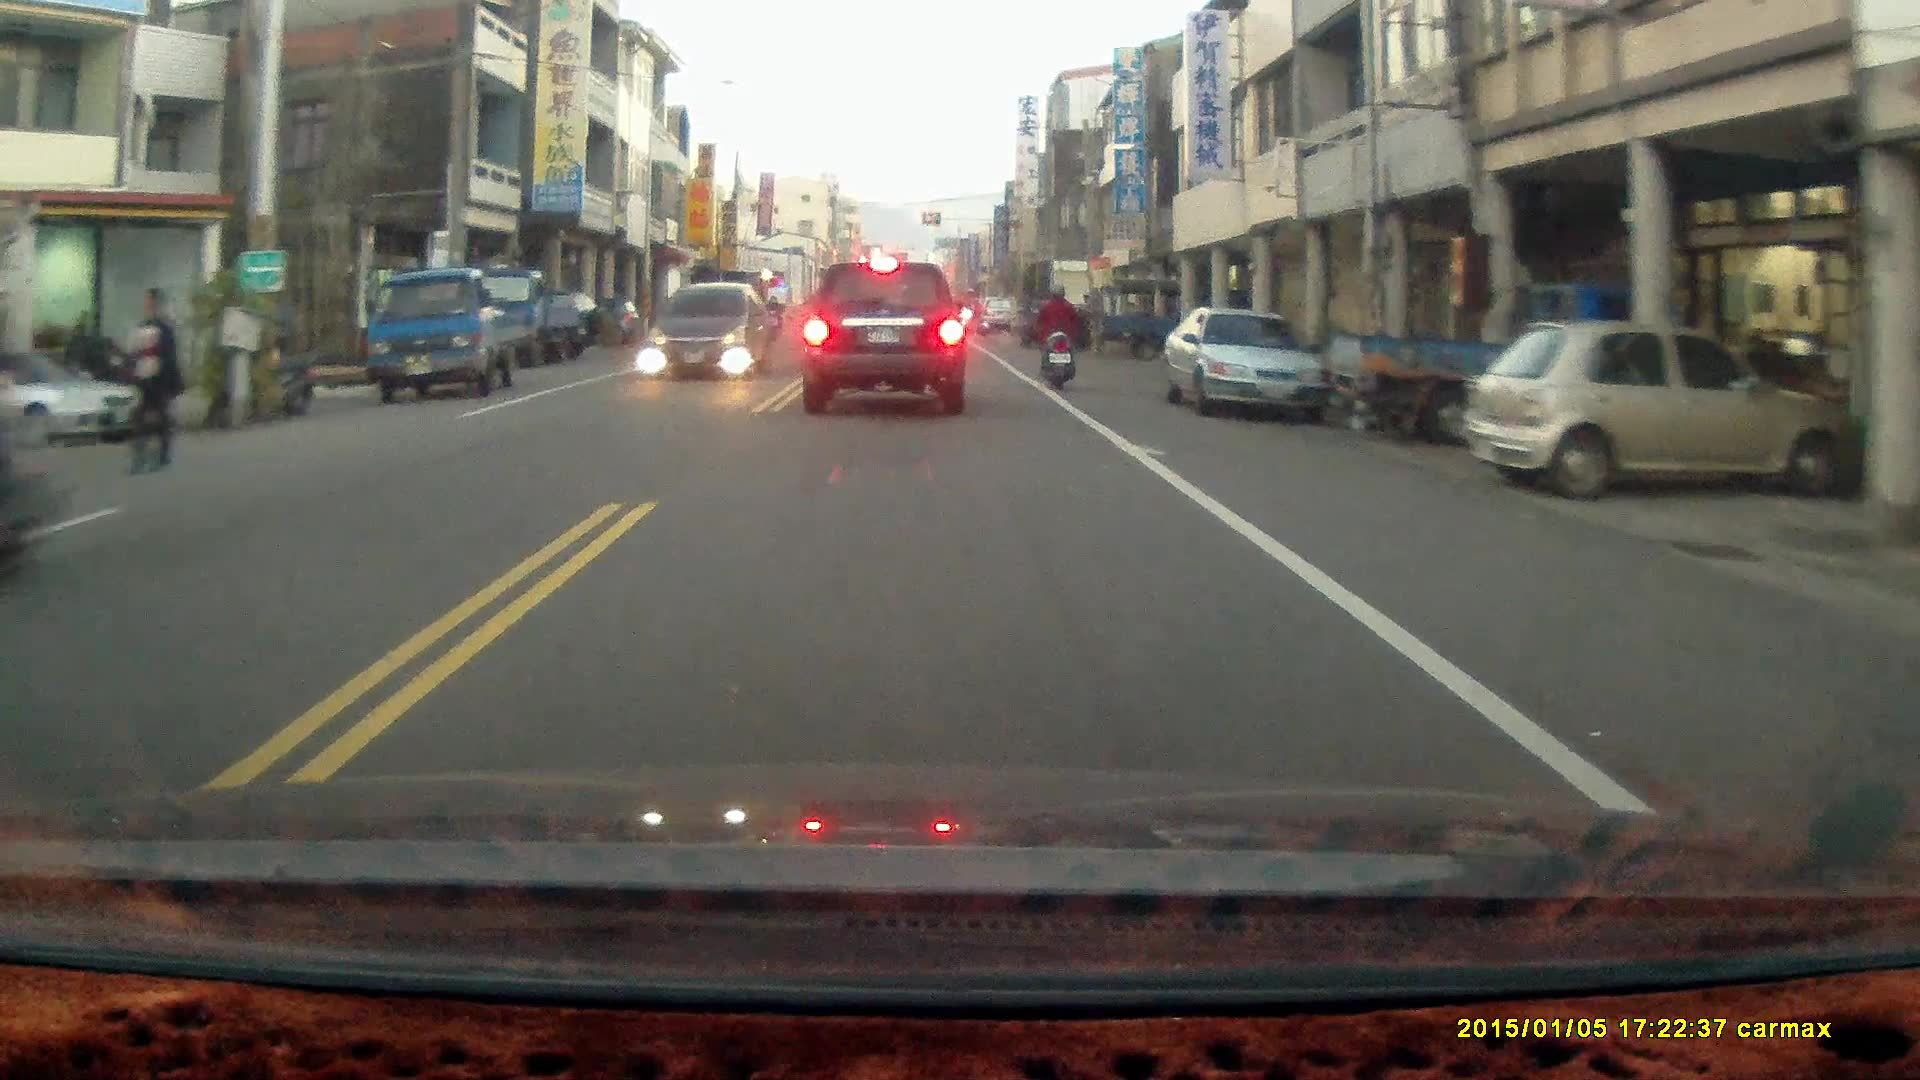pedestrian: (107, 286, 181, 473)
rider: (1035, 281, 1078, 388)
vehicle: (1477, 316, 1829, 505), (795, 254, 970, 417), (368, 265, 538, 401), (1163, 307, 1335, 417), (1, 345, 148, 447), (648, 279, 771, 378)
